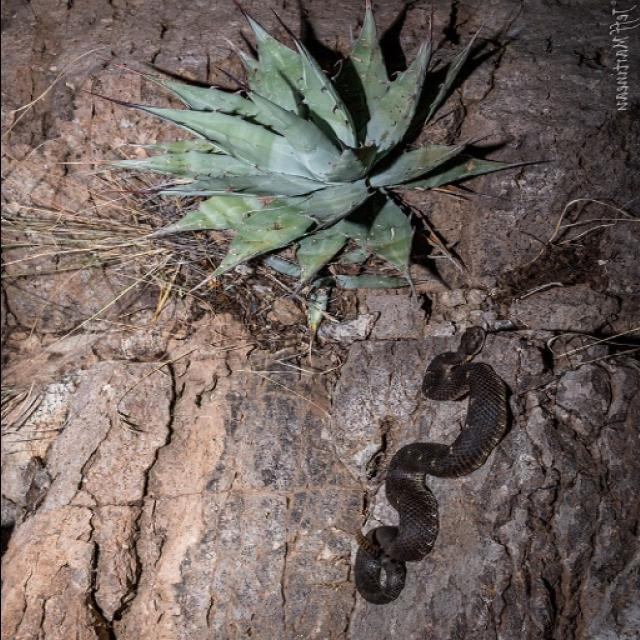snake: (344, 322, 522, 608)
